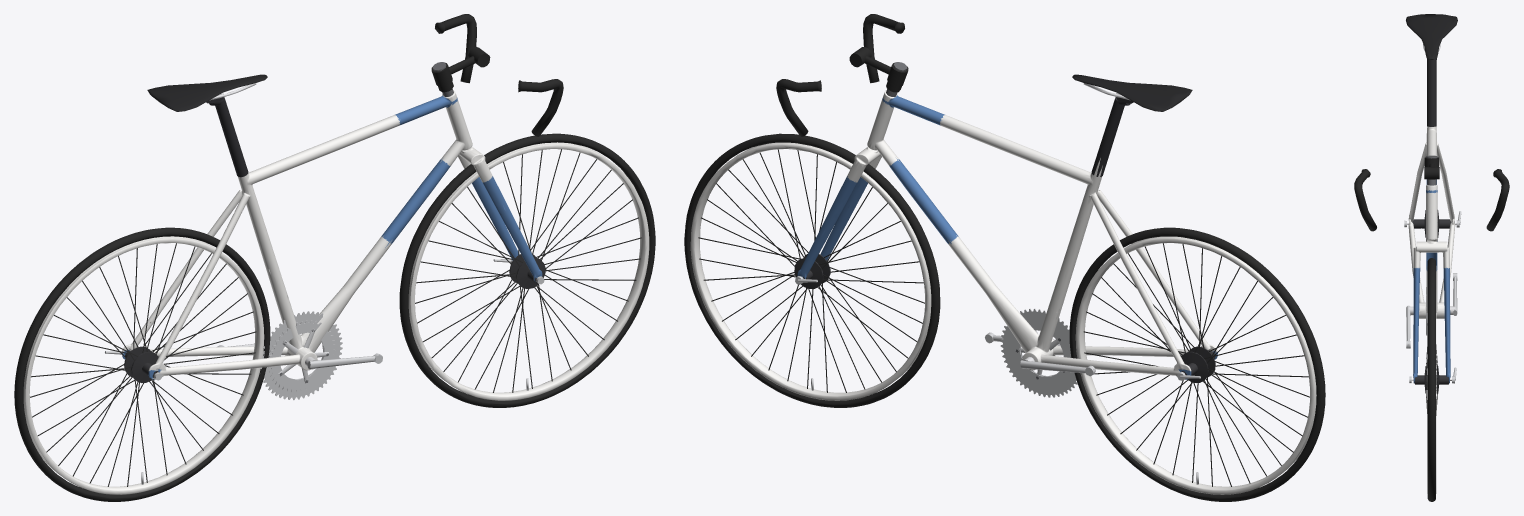
Rendered from bike_lite.glb.
The picture shows the model from 3 angles, left to right: view 1: azimuth 30°, elevation 25°; view 2: azimuth 150°, elevation 25°; view 3: azimuth 270°, elevation 25°; orthographic projection. The views are drawn at different scales.
Parts seen in each view (by area): view 1: dropbar, fork, saddle, tyre_front; view 2: dropbar, fork, saddle, tyre_front; view 3: fork, dropbar, tyre_front, saddle.
Part boxes in pixels (x1,y1,x2,y2): dropbar: (30,14,641,486); fork: (122,90,542,379); saddle: (23,74,649,494); tyre_front: (14,133,655,501); dropbar: (698,14,1309,486); fork: (797,90,1217,379); saddle: (690,74,1316,494); tyre_front: (684,133,1325,501); fork: (1408,126,1455,383); dropbar: (1354,44,1509,415); tyre_front: (1427,258,1435,501); saddle: (1406,14,1457,493).
Bounding box in the file's own units: 1.68 × 0.9885 × 0.4256.
Materials: 4 (4 with a texture image).
